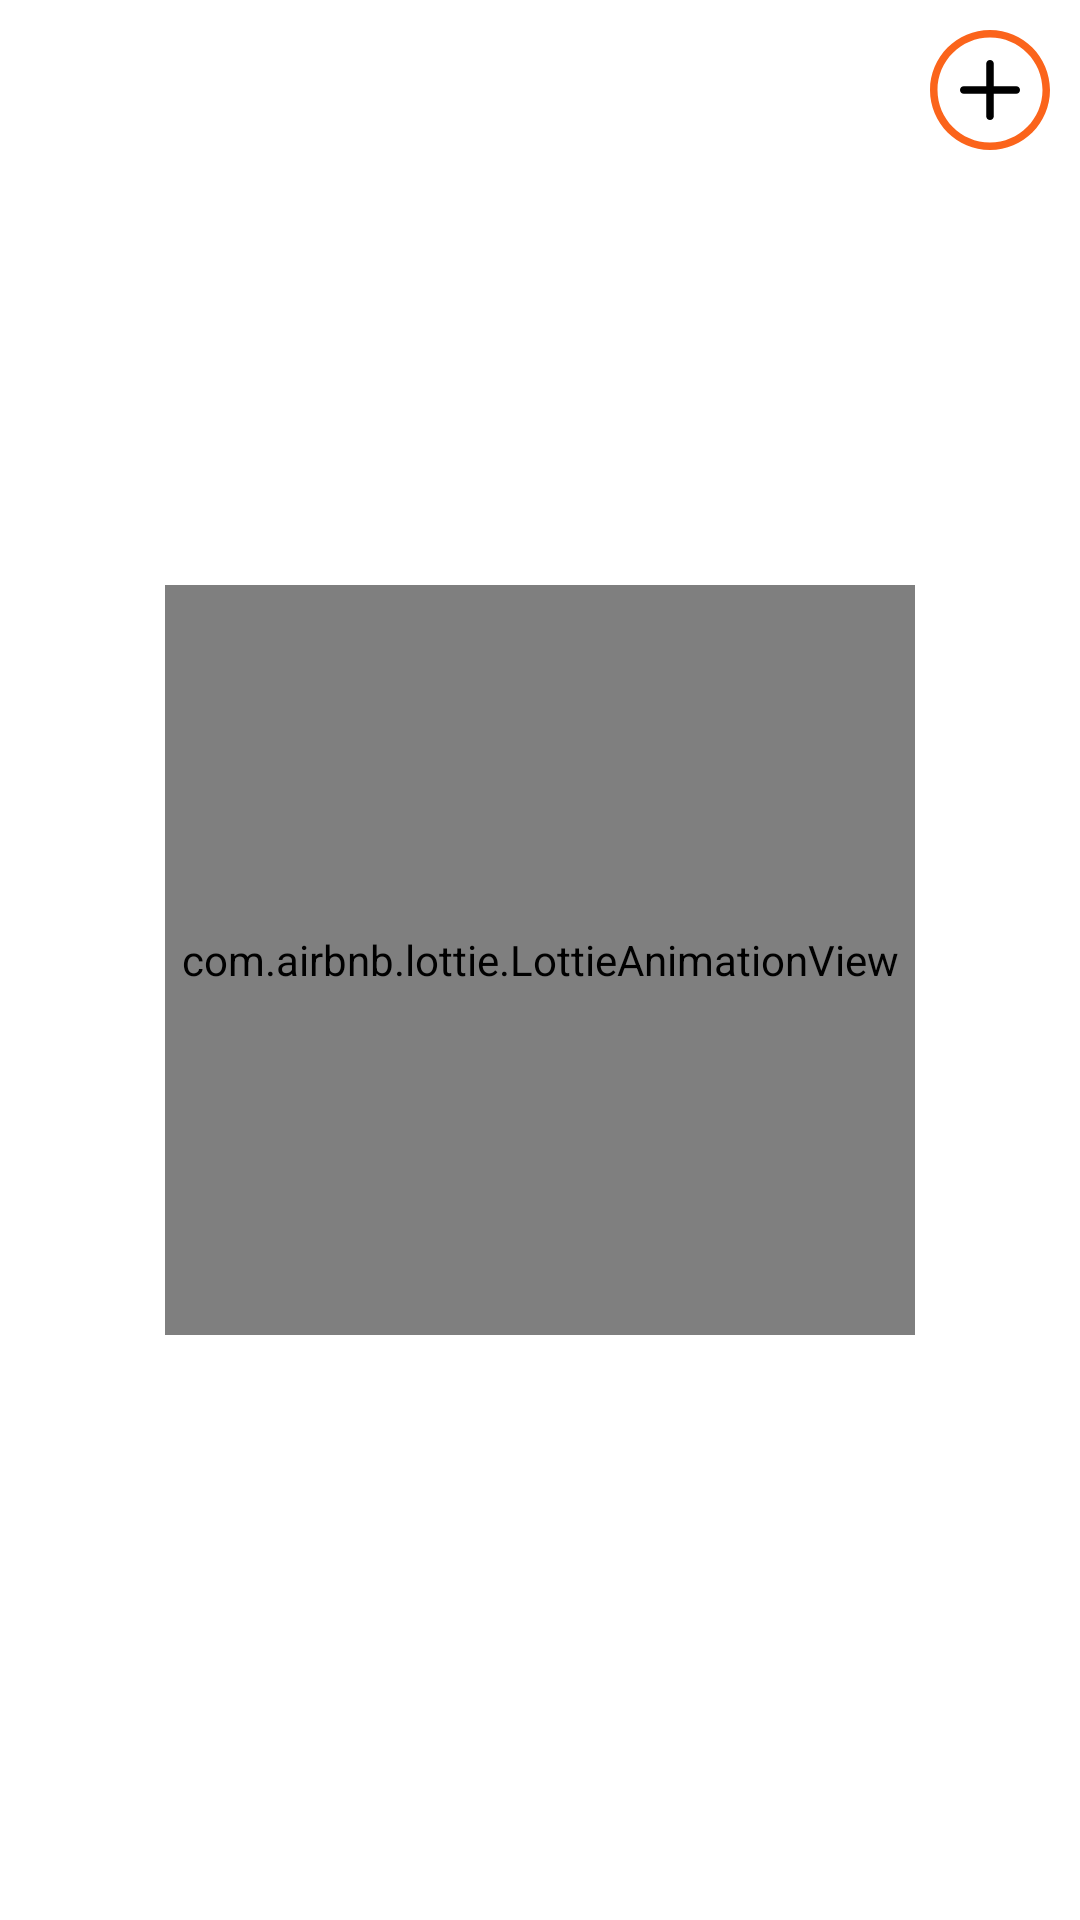

Named icons in this screenshot (1080px x 1920px) and their centers, point (x, y):
plus: point (990, 90)
